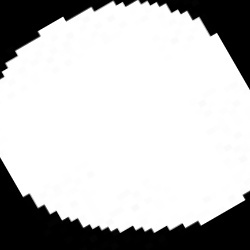spot: (2, 1, 249, 232)
